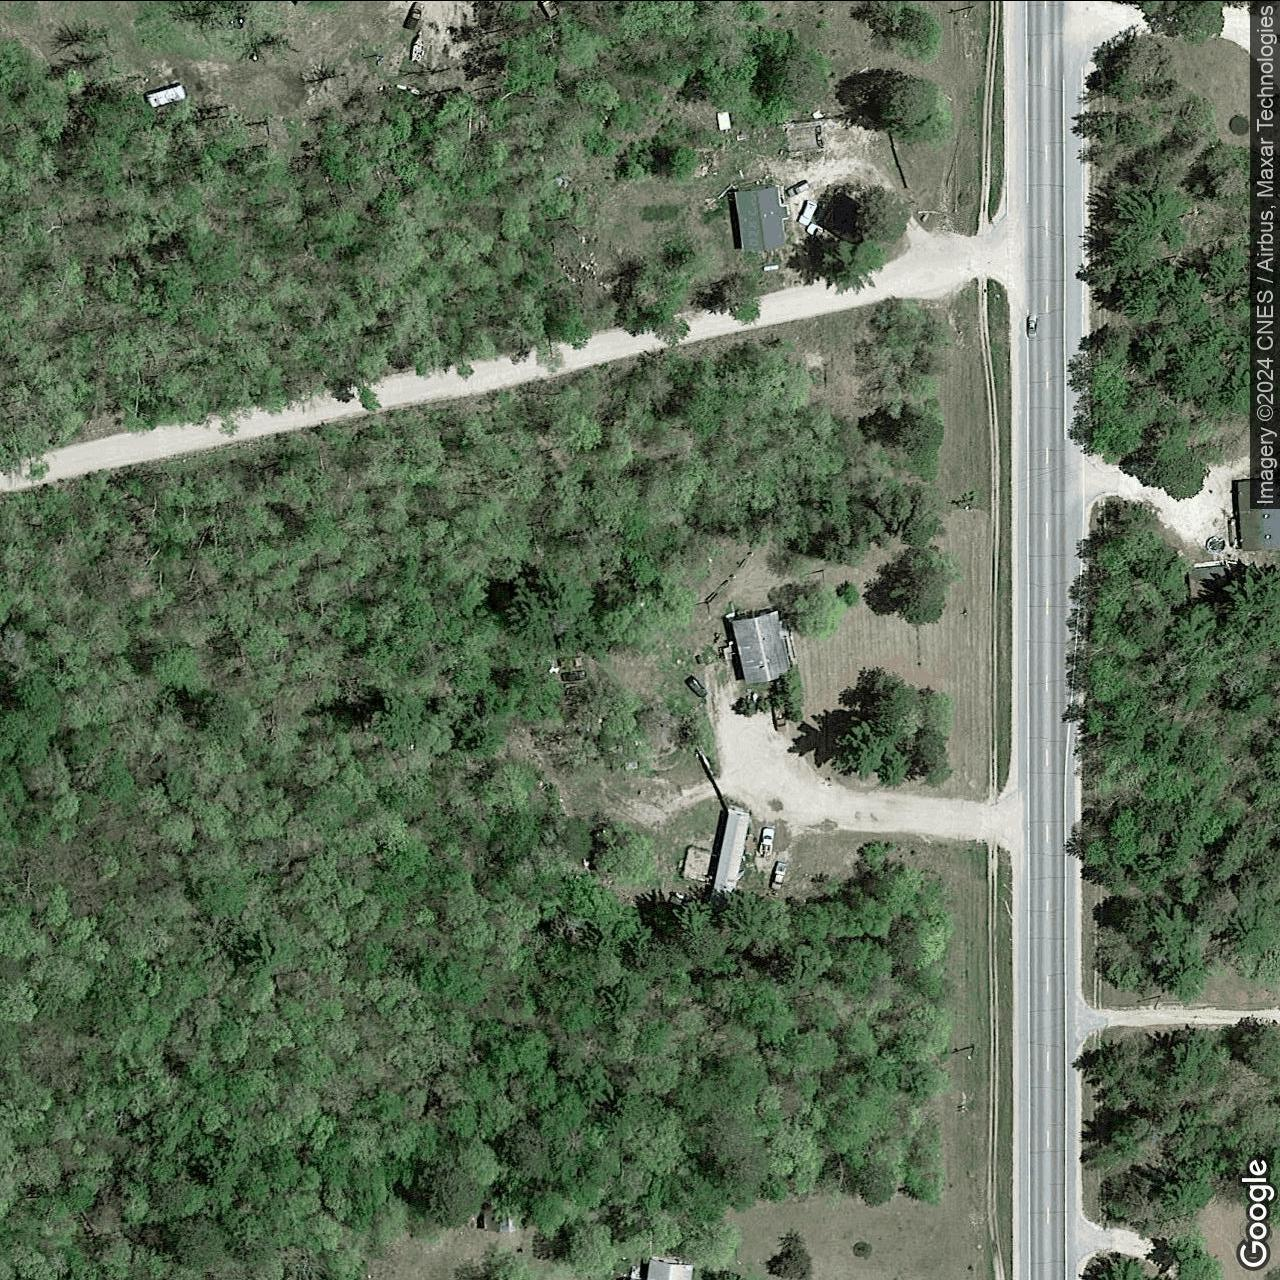House: (728, 605, 794, 686), (733, 183, 788, 253), (1234, 477, 1279, 553), (646, 1253, 696, 1280)
Propane: (760, 263, 781, 273)
Trailer: (710, 805, 751, 898), (143, 80, 189, 109)
